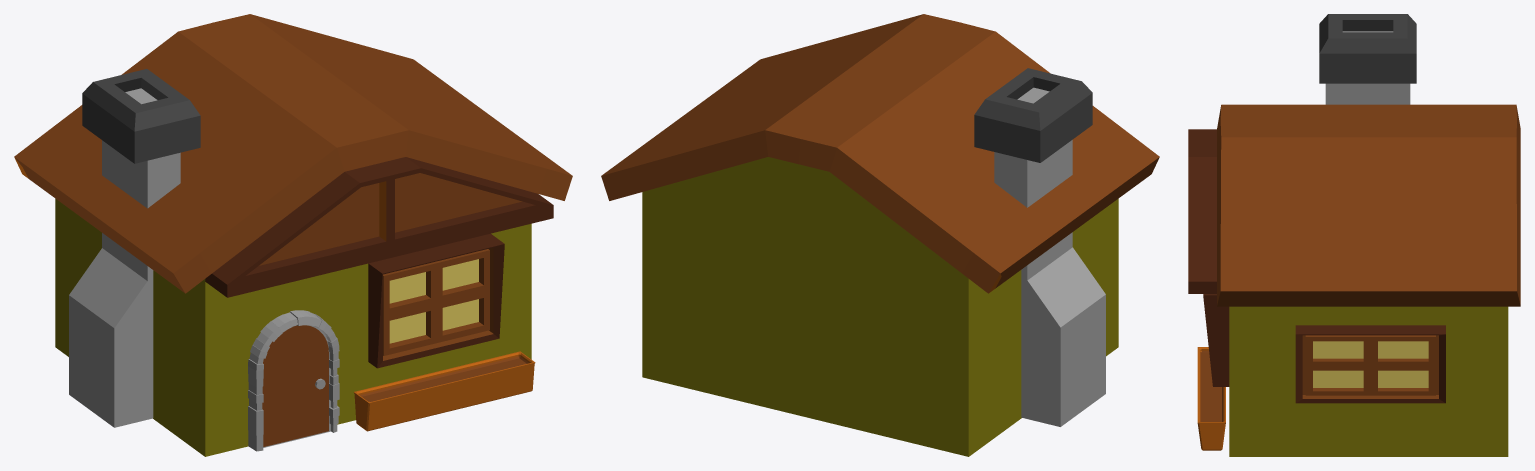
File: SagradoCasaAmarela1.fbx
The picture shows the model from 3 angles, left to right: view 1: azimuth 30°, elevation 25°; view 2: azimuth 150°, elevation 25°; view 3: azimuth 270°, elevation 25°; orthographic projection. The views are drawn at different scales.
Parts seen in each view (by area): view 1: CasaAmarela1; view 2: CasaAmarela1; view 3: CasaAmarela1.
Boxes of the visible parts, x1,y1,x2,y2 form: CasaAmarela1: (14, 14, 572, 456); CasaAmarela1: (601, 14, 1159, 456); CasaAmarela1: (1188, 14, 1520, 456).
Size of the model in its own units: 1212 by 890 by 934.
